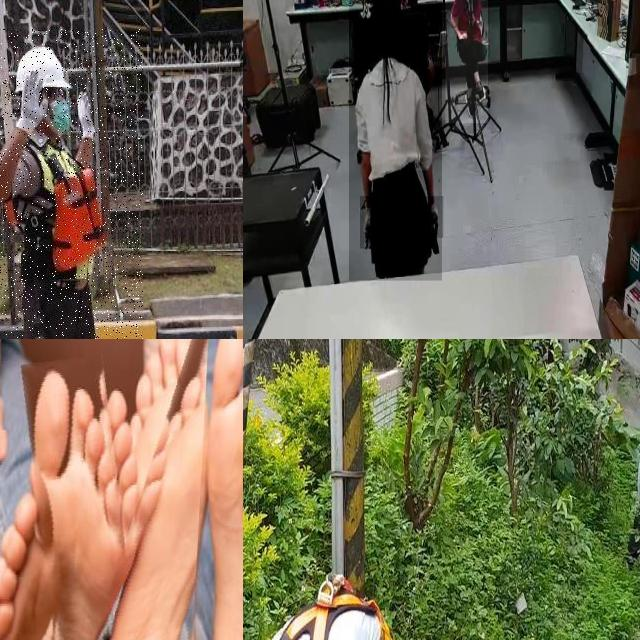Barefoots: (32, 368, 152, 640), (107, 339, 207, 640), (168, 339, 243, 640), (0, 506, 73, 640)
Harness: (266, 572, 411, 640)
hand_glove: (422, 196, 444, 239), (360, 196, 376, 250)
hand_noglove: (458, 30, 468, 40)
head_helmet: (14, 47, 71, 91)
head_nohelmet: (370, 0, 401, 26)
person: (0, 29, 143, 339), (349, 0, 442, 281), (445, 0, 488, 124)
shoes: (464, 86, 476, 121), (474, 77, 488, 104)
vest: (16, 140, 103, 286)
